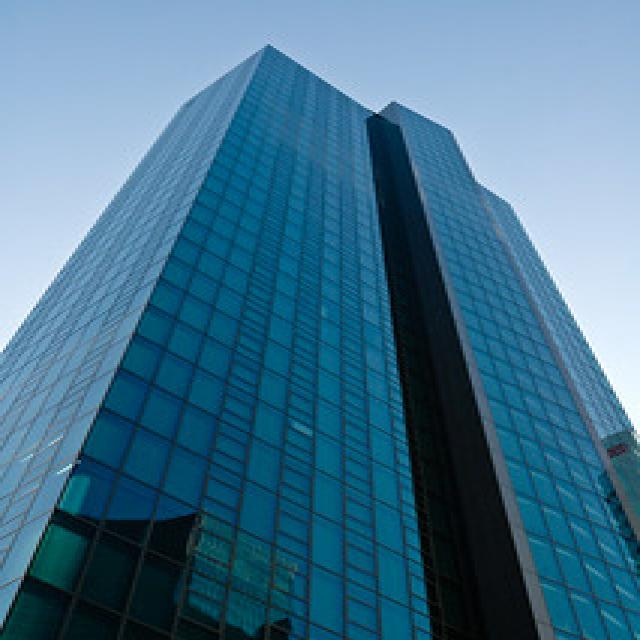Normal_building: (9, 44, 640, 640)
